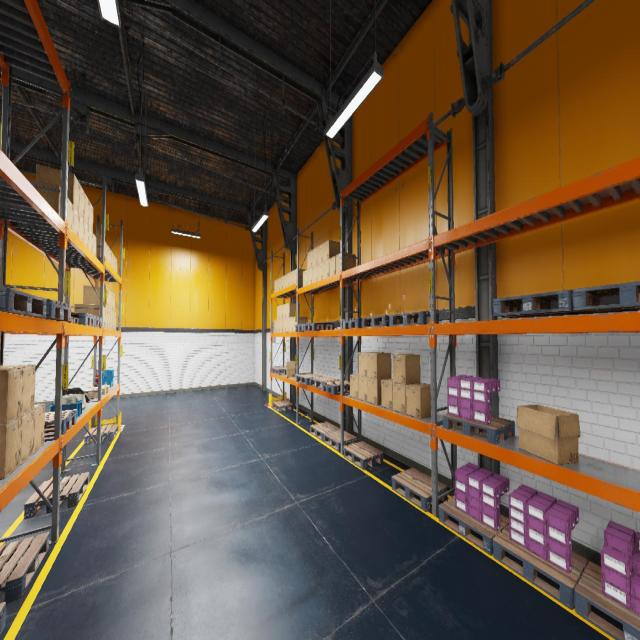box: (516, 404, 580, 465), (36, 164, 80, 213), (0, 364, 35, 415), (0, 415, 21, 479), (26, 177, 60, 216), (0, 367, 23, 424), (406, 383, 431, 419), (393, 354, 420, 384), (20, 410, 34, 464), (367, 377, 391, 405), (367, 352, 391, 378), (33, 403, 45, 454), (83, 285, 108, 309), (358, 352, 379, 377), (336, 252, 355, 274), (393, 383, 406, 414), (323, 240, 340, 262), (381, 379, 393, 410), (74, 304, 100, 316), (358, 376, 367, 402), (293, 316, 308, 331), (286, 302, 300, 318), (79, 184, 85, 220), (350, 373, 358, 399), (293, 268, 306, 284), (67, 197, 73, 230), (72, 206, 78, 237), (285, 361, 296, 377), (84, 194, 89, 226), (94, 234, 101, 256), (93, 383, 106, 394), (79, 214, 84, 242), (89, 201, 93, 232), (88, 228, 93, 252), (329, 256, 335, 276), (312, 246, 318, 266), (323, 259, 329, 278), (84, 221, 88, 248), (312, 265, 318, 283), (92, 233, 96, 256), (86, 392, 98, 399), (318, 244, 322, 264), (318, 262, 322, 281), (308, 250, 312, 269), (289, 316, 293, 332), (308, 268, 312, 284), (303, 270, 307, 286), (108, 289, 111, 310), (105, 308, 108, 328), (84, 389, 98, 393), (282, 318, 286, 332), (282, 304, 286, 318), (286, 272, 290, 286), (290, 270, 293, 286), (103, 307, 105, 328), (286, 318, 289, 332), (283, 274, 286, 288), (280, 276, 283, 290), (108, 309, 110, 329), (110, 310, 112, 330), (277, 278, 280, 291), (110, 292, 112, 311), (112, 293, 114, 312), (107, 244, 109, 262), (274, 280, 277, 292), (105, 385, 110, 392), (109, 248, 111, 265), (112, 251, 114, 268), (112, 312, 114, 329), (116, 258, 118, 272), (280, 304, 282, 318), (280, 319, 282, 332), (277, 306, 279, 319), (277, 320, 279, 332), (274, 320, 276, 332), (105, 241, 106, 259), (115, 312, 116, 330), (114, 255, 115, 270)
pallets: (492, 524, 588, 610), (574, 562, 640, 640), (438, 496, 509, 556), (0, 532, 49, 603), (24, 472, 89, 518), (493, 290, 586, 318), (392, 468, 447, 512), (442, 413, 514, 444), (572, 281, 640, 313), (0, 286, 47, 318), (343, 442, 383, 469), (44, 410, 77, 438), (323, 429, 357, 452), (389, 311, 439, 326), (84, 424, 118, 444), (310, 421, 340, 441), (44, 299, 71, 321), (321, 380, 350, 394), (66, 312, 94, 326), (310, 376, 340, 389), (72, 316, 101, 328), (296, 373, 323, 385), (362, 315, 389, 327), (343, 318, 370, 328), (304, 322, 334, 331), (272, 400, 294, 412), (0, 602, 6, 635), (272, 367, 286, 374), (294, 324, 304, 331)
